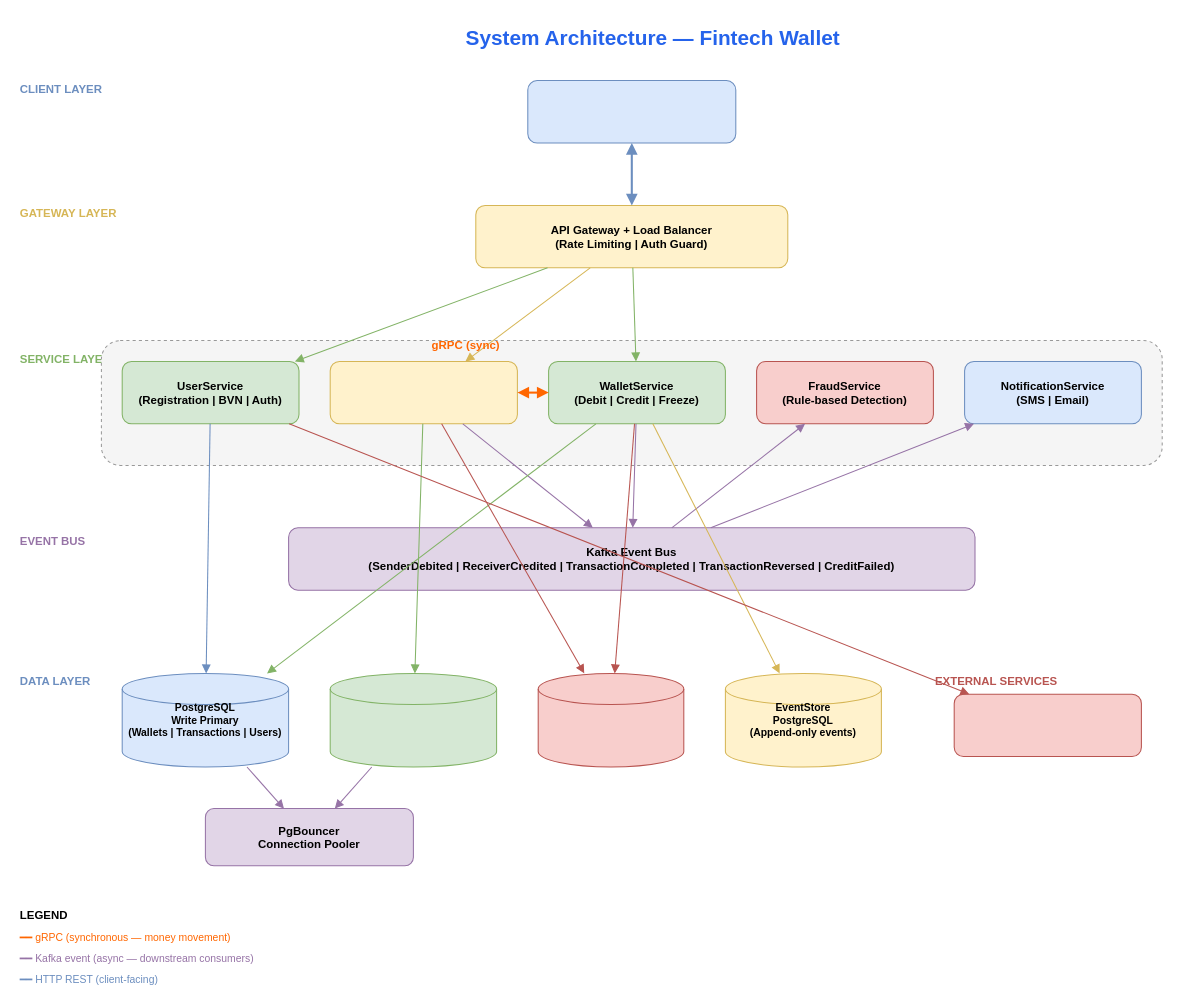
This 1180x1005 diagram has some shape labels left out. The centre of each missing label's shape, as x and y in pixels:
Client (Mobile / Web): (x=631, y=111)
PostgreSQL Read Replica (Status checks | Pre-flight): (x=413, y=719)
Prembly BVN API (Sandbox / Live): (x=1047, y=725)
Redis (Balance cache Transaction history): (x=610, y=719)
TransactionService (Orchestrator | Pre-flight): (x=423, y=392)
